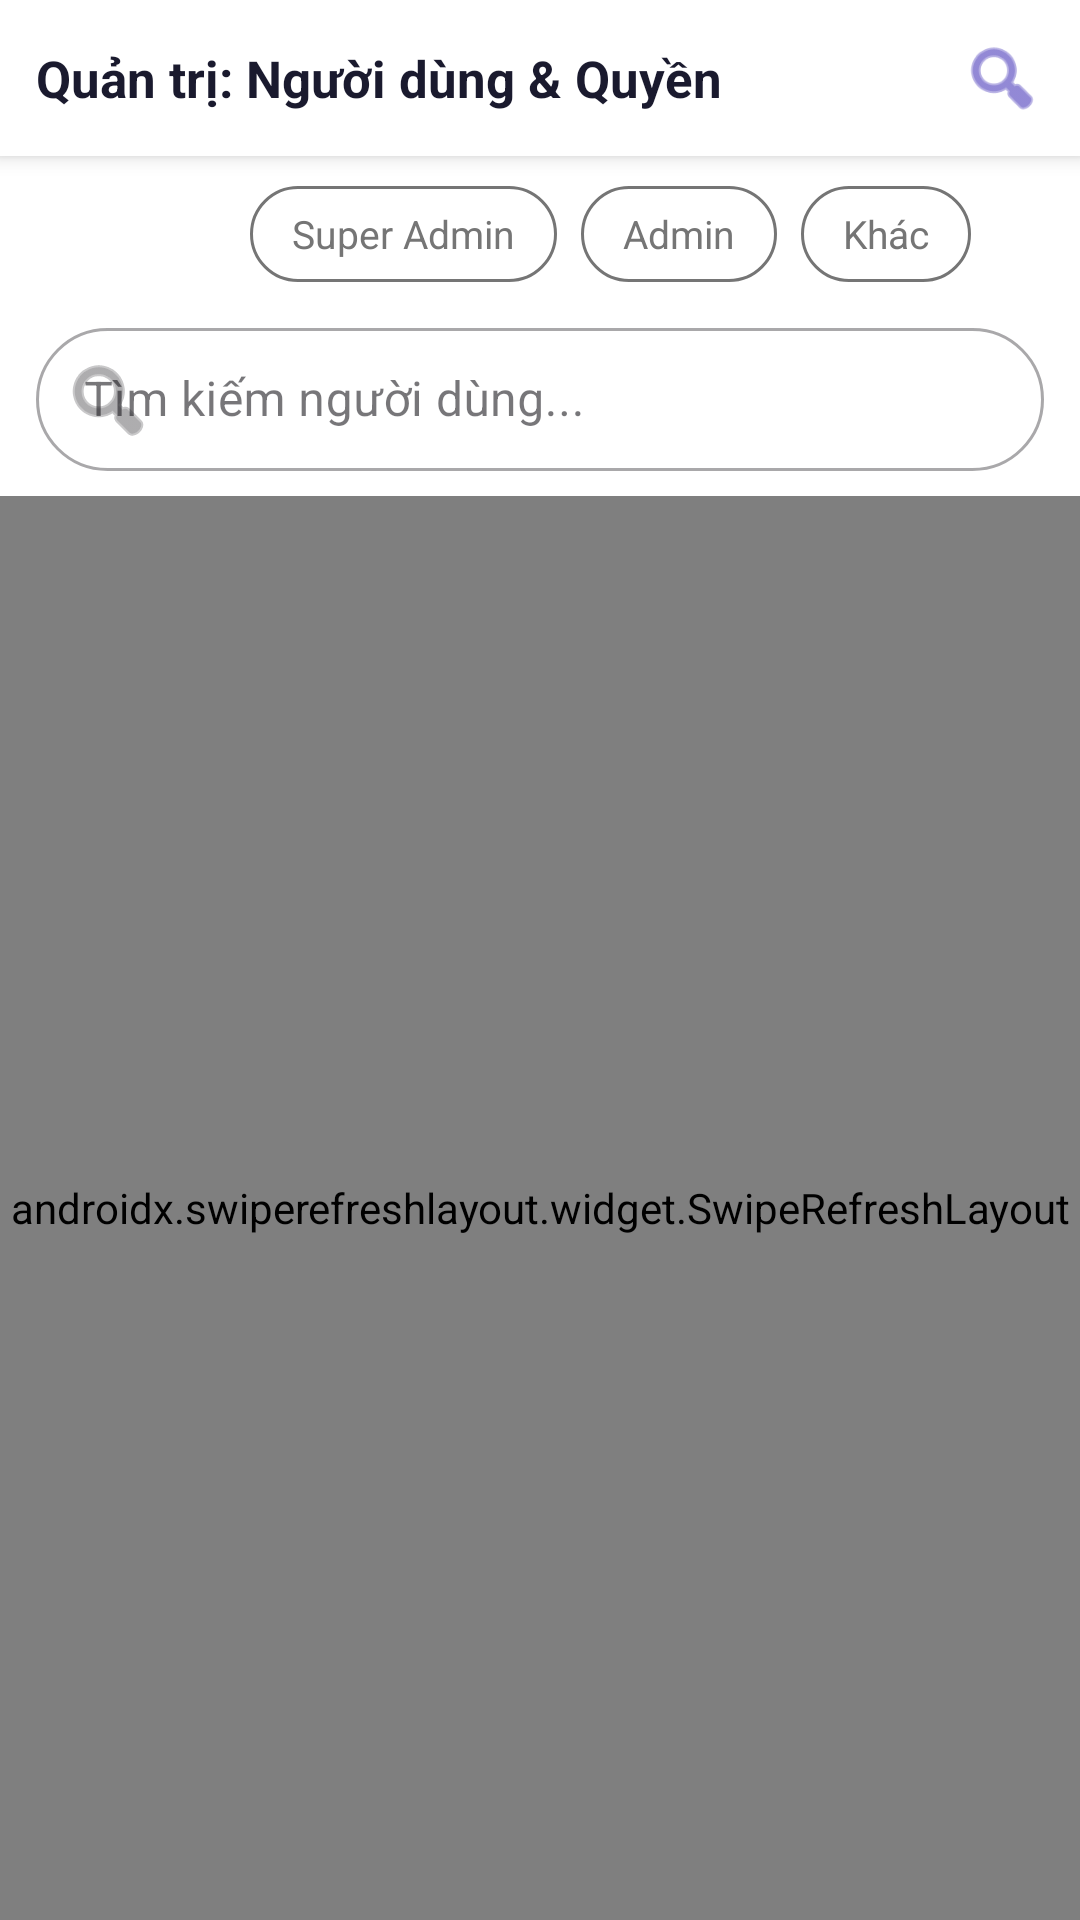

Icons on this 1080 x 1920 Android screen, each with the point to tap as (x,y):
search: (1002,78)
